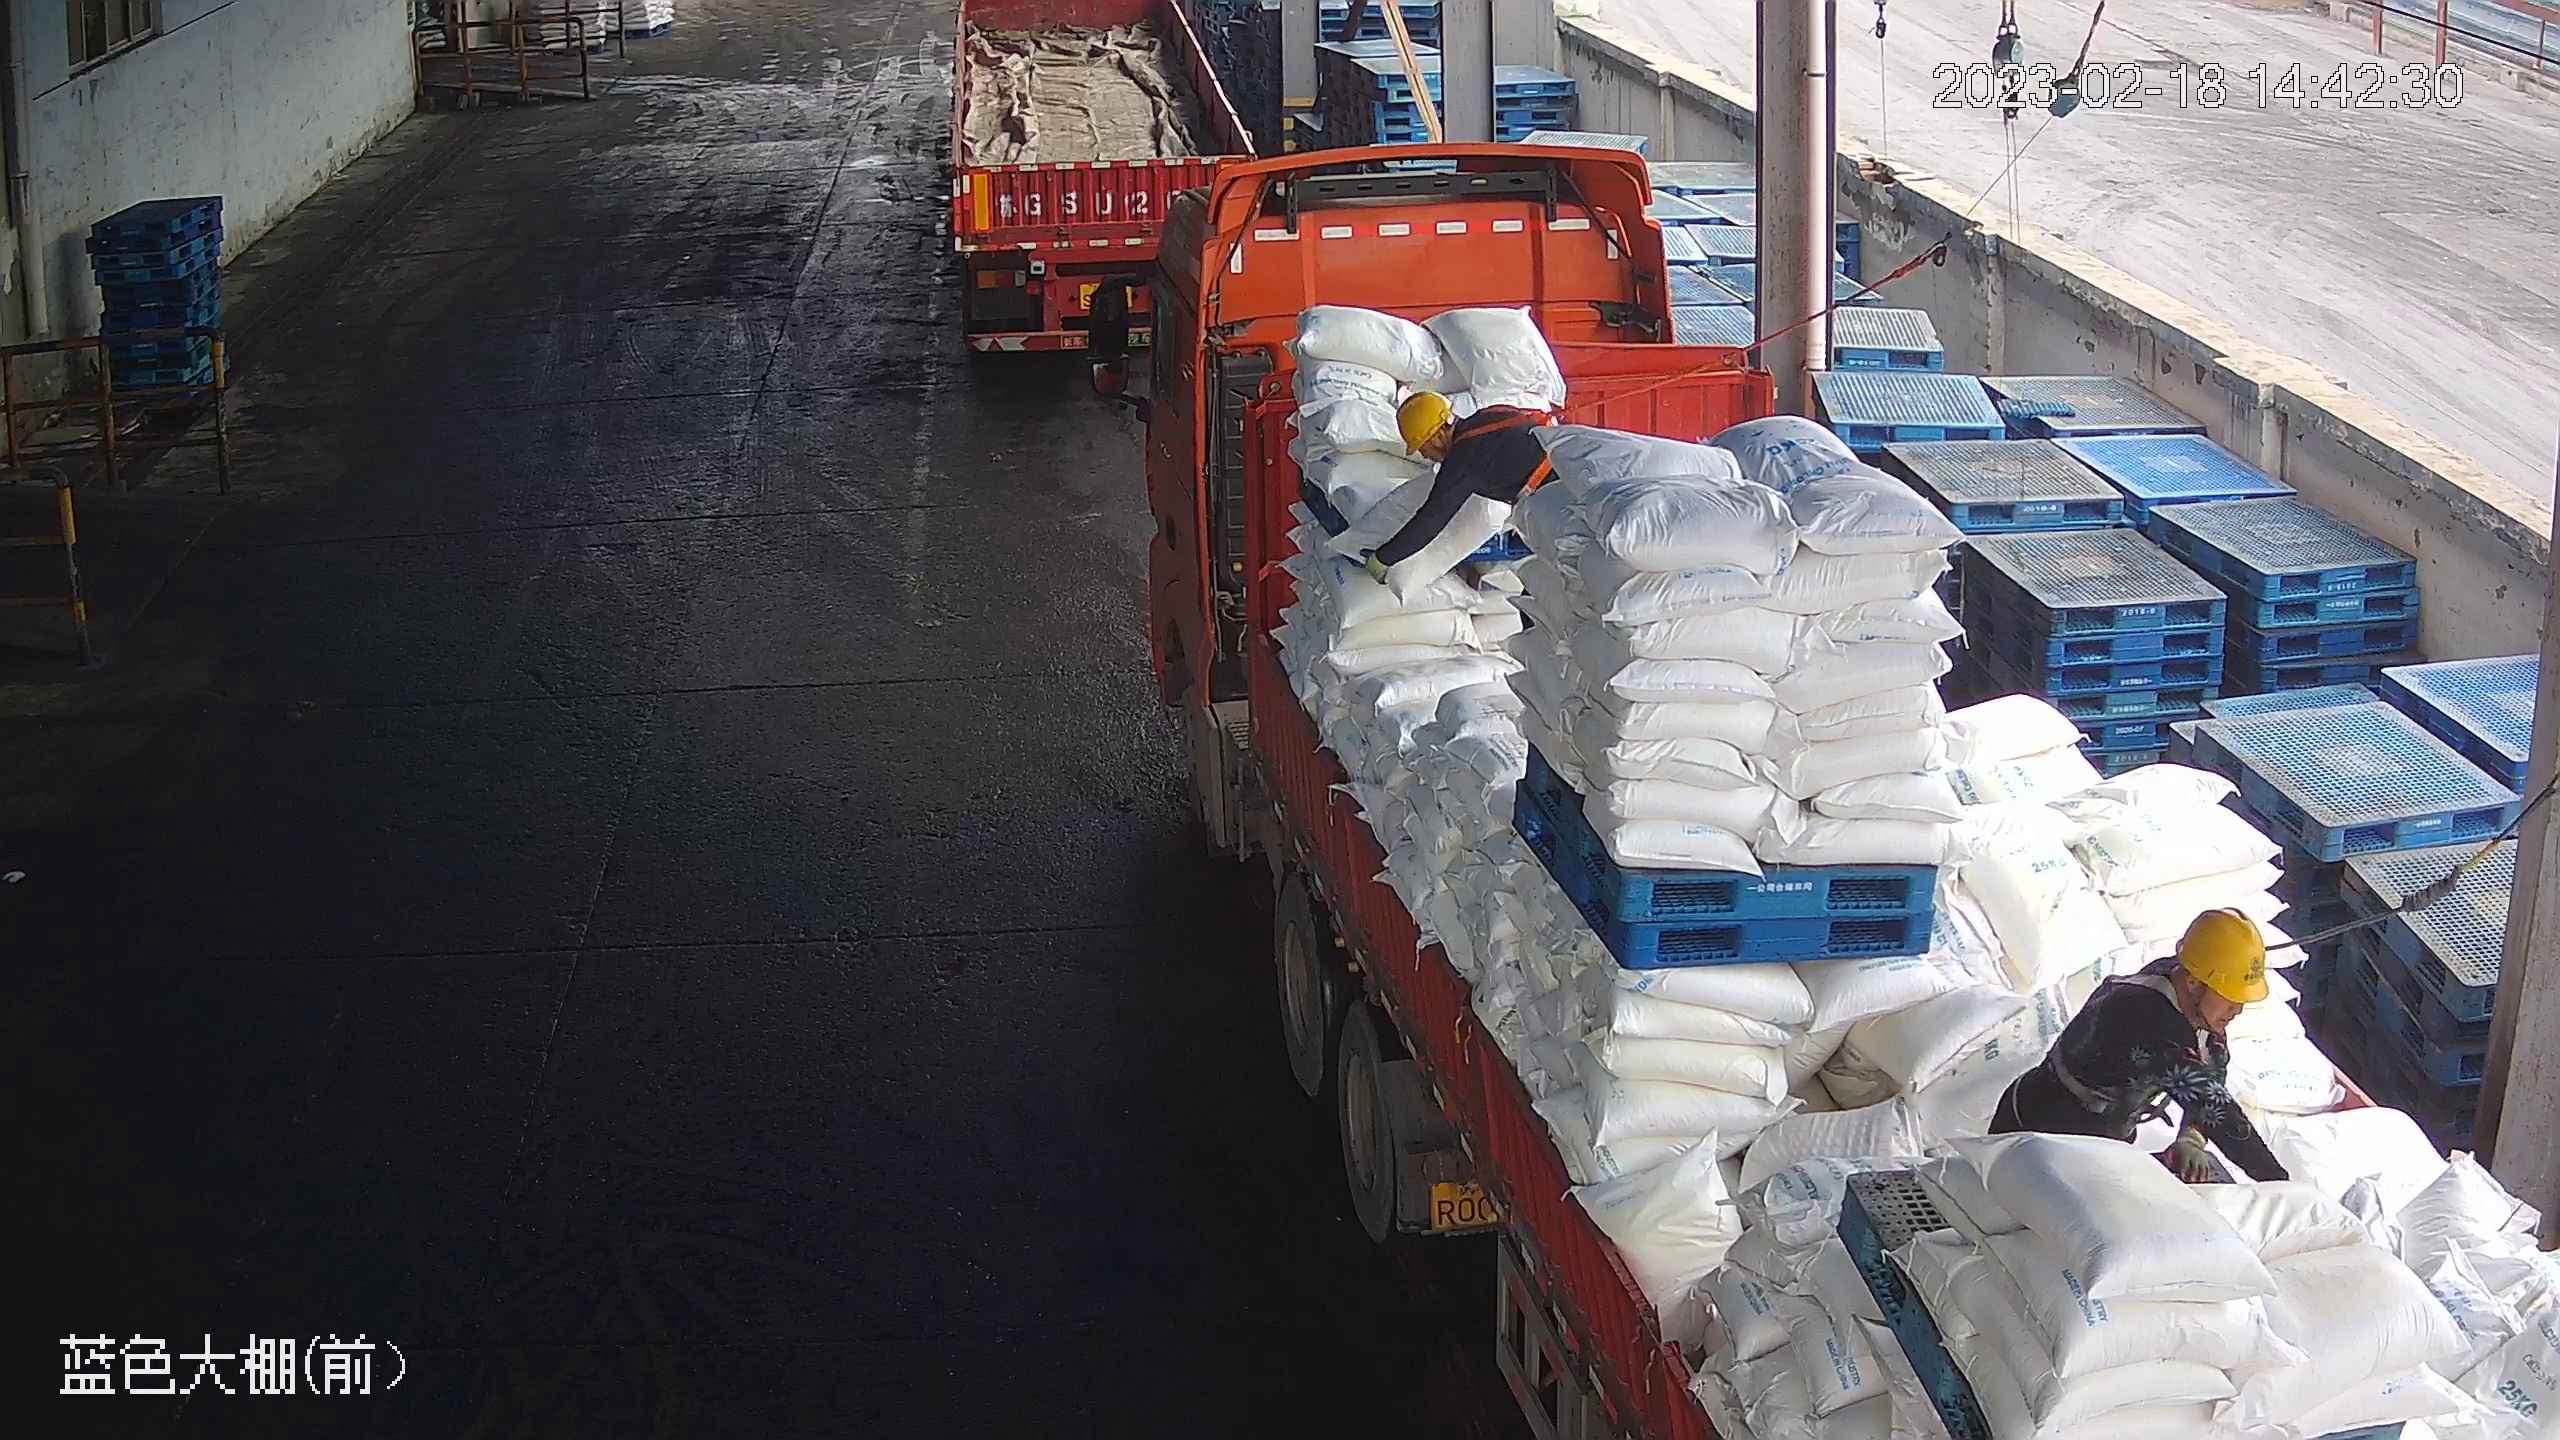belt: (2049, 964, 2195, 1102), (1457, 397, 1560, 496)
head: (2083, 903, 2269, 1064), (1394, 384, 1517, 496)
helmet: (2175, 905, 2272, 1002), (1390, 381, 1452, 458)
people: (1356, 383, 1566, 599)
truck: (1084, 139, 2555, 1440), (948, 2, 1262, 355)
